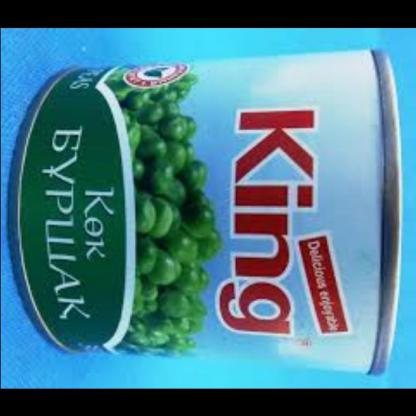peas: (111, 72, 217, 370)
